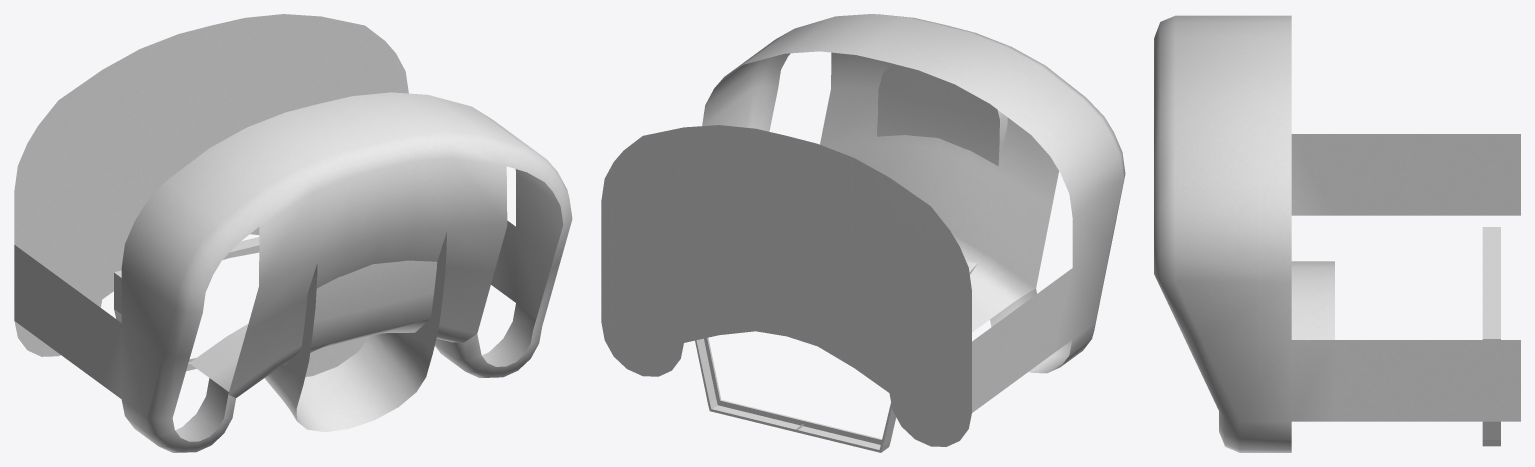
Rendered from CoffeeMachine_12_CoffeeMachine_12_0_GeomSubset_0.obj.
The picture shows the model from 3 angles, left to right: view 1: azimuth 30°, elevation 25°; view 2: azimuth 150°, elevation 25°; view 3: azimuth 270°, elevation 25°; orthographic projection. The views are drawn at different scales.
Parts seen in each view (by area): view 1: CoffeeMachine_12_CoffeeMachine_12_0_GeomSubset_0; view 2: CoffeeMachine_12_CoffeeMachine_12_0_GeomSubset_0; view 3: CoffeeMachine_12_CoffeeMachine_12_0_GeomSubset_0.
Part boxes in pixels (x1,y1,x2,y2): CoffeeMachine_12_CoffeeMachine_12_0_GeomSubset_0: (14, 14, 572, 452); CoffeeMachine_12_CoffeeMachine_12_0_GeomSubset_0: (601, 14, 1125, 452); CoffeeMachine_12_CoffeeMachine_12_0_GeomSubset_0: (1154, 15, 1520, 452).
Bounding box in the file's own units: 0.5264 × 0.4109 × 0.3961.
